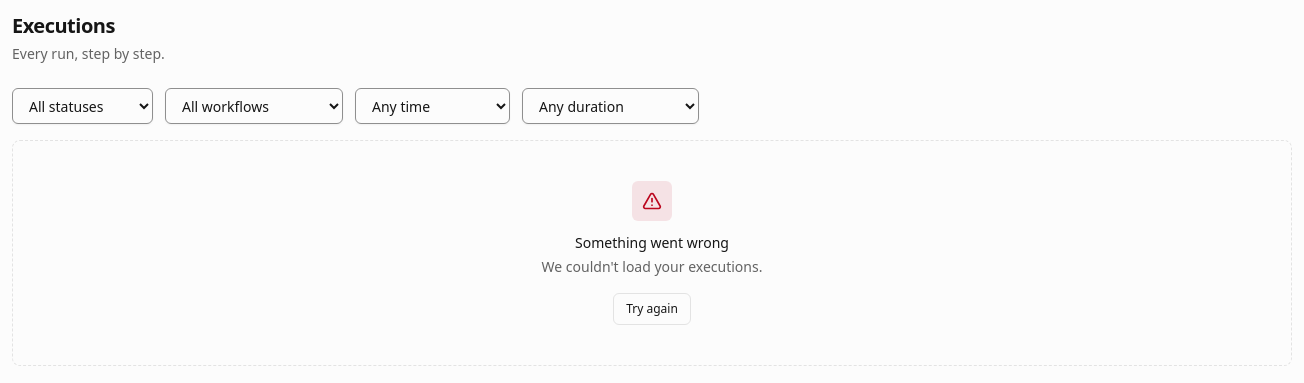
it: ExecutionsPage › shows an error with a retry
The width and height of the screenshot is (1304, 383).
Click the button "Try again".
click(652, 309)  # box [613,293,691,325]
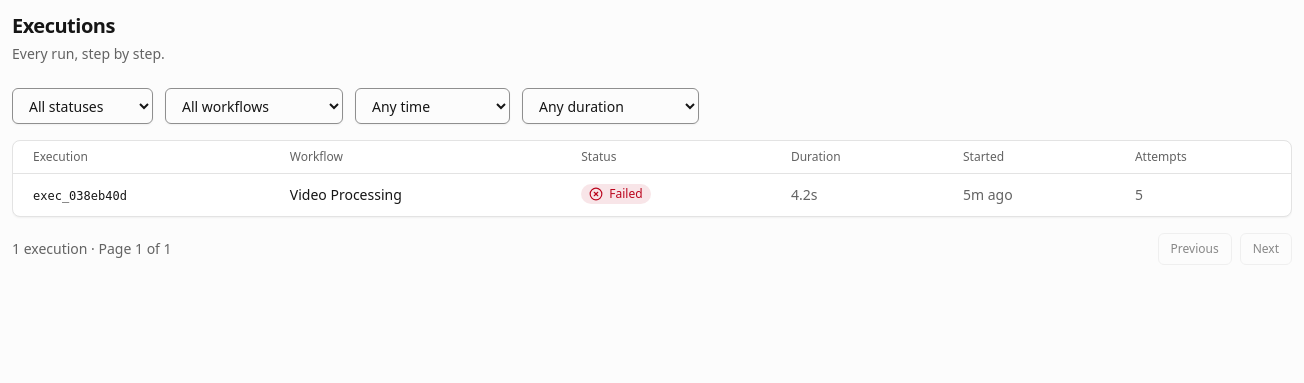
Now the text "Video Processing" is shown, box [290,185,402,204]
